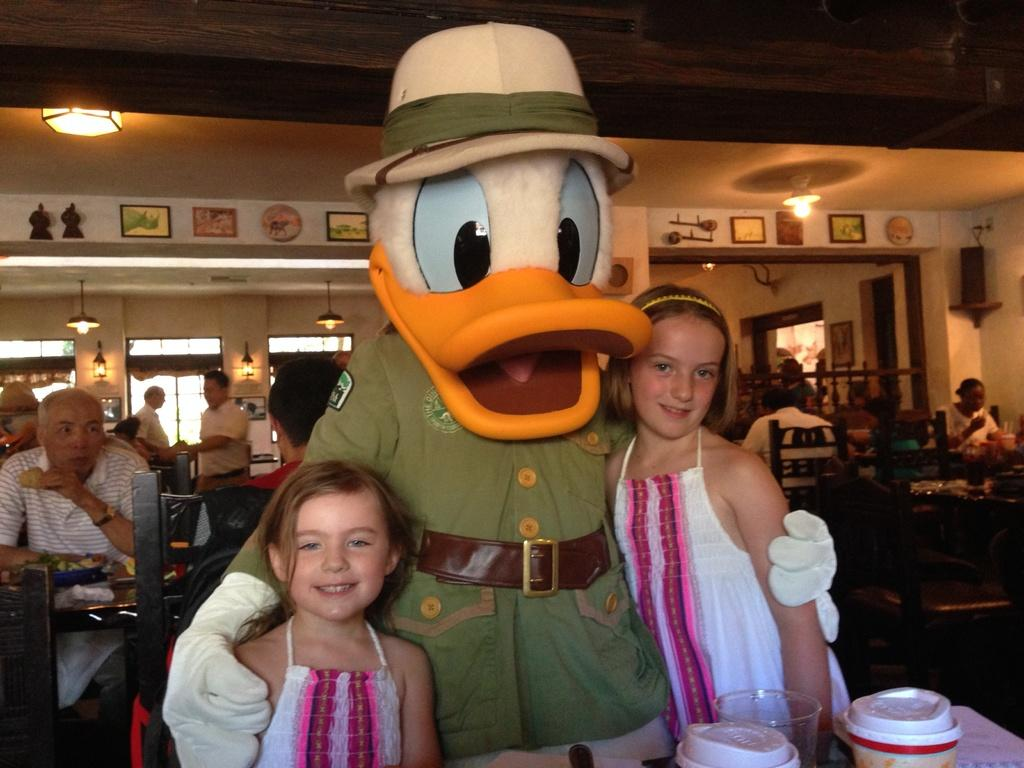Hat: (342, 17, 640, 196)
